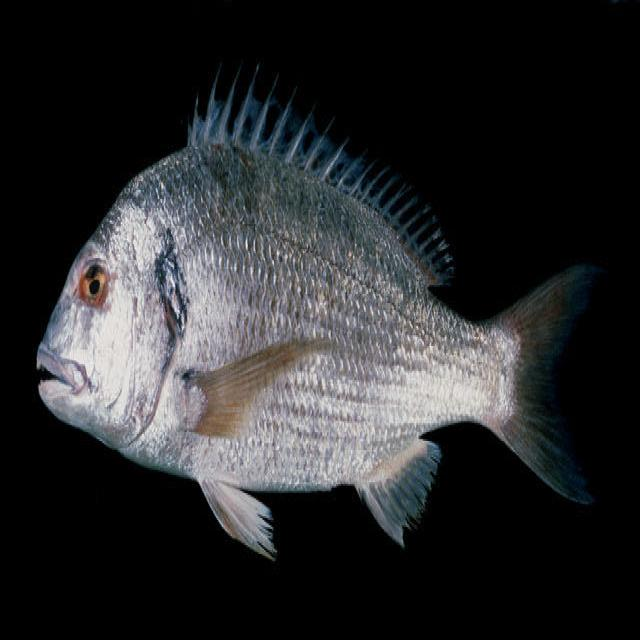ikan: (34, 57, 604, 563)
